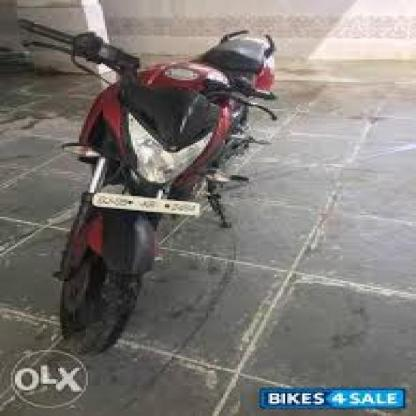bike: (8, 12, 278, 354)
